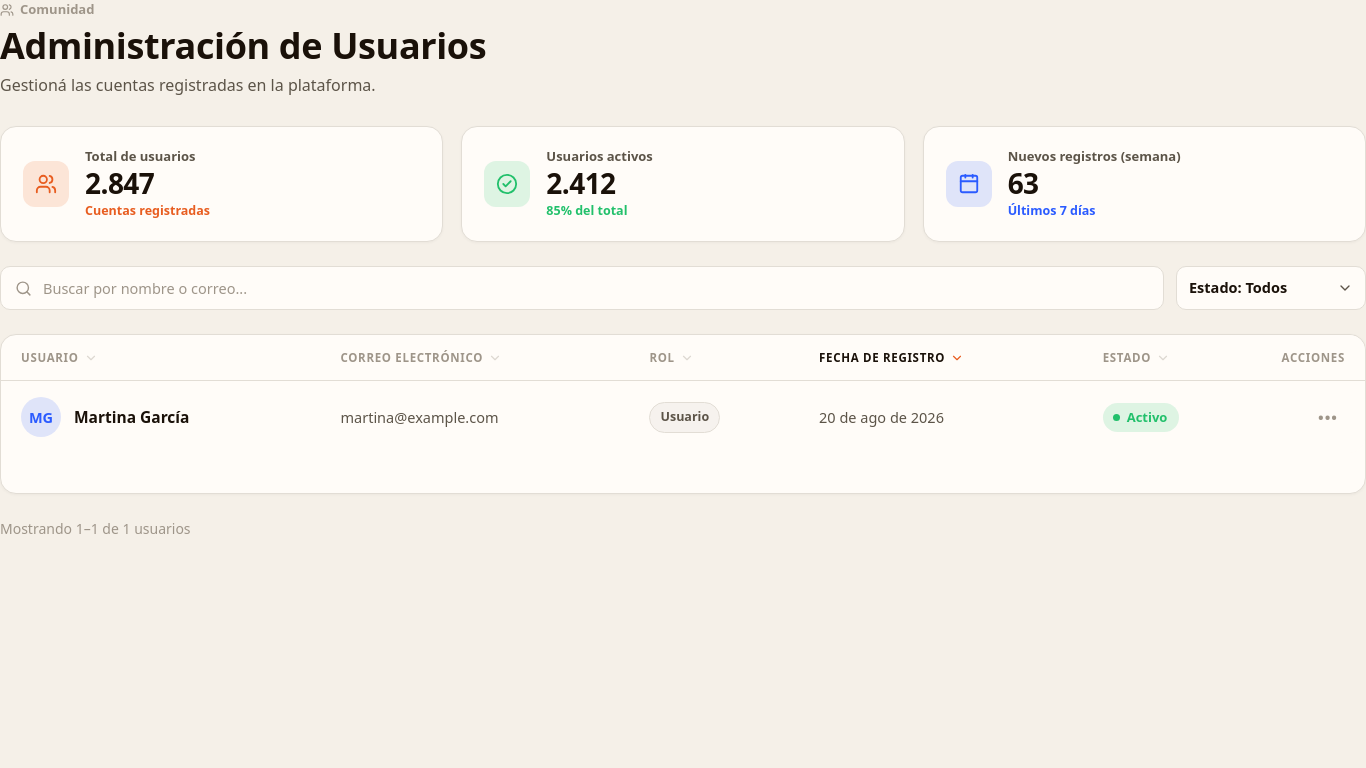
Test case: AdminUsersView › edits all mutable user fields from the read view actions
The width and height of the screenshot is (1366, 768).
Check: the text "Martina García" is shown, box 74,406 -> 189,429
Click the button with aria-label "Ver detalle de Martina García" at (161, 417), box 1,381 -> 320,453
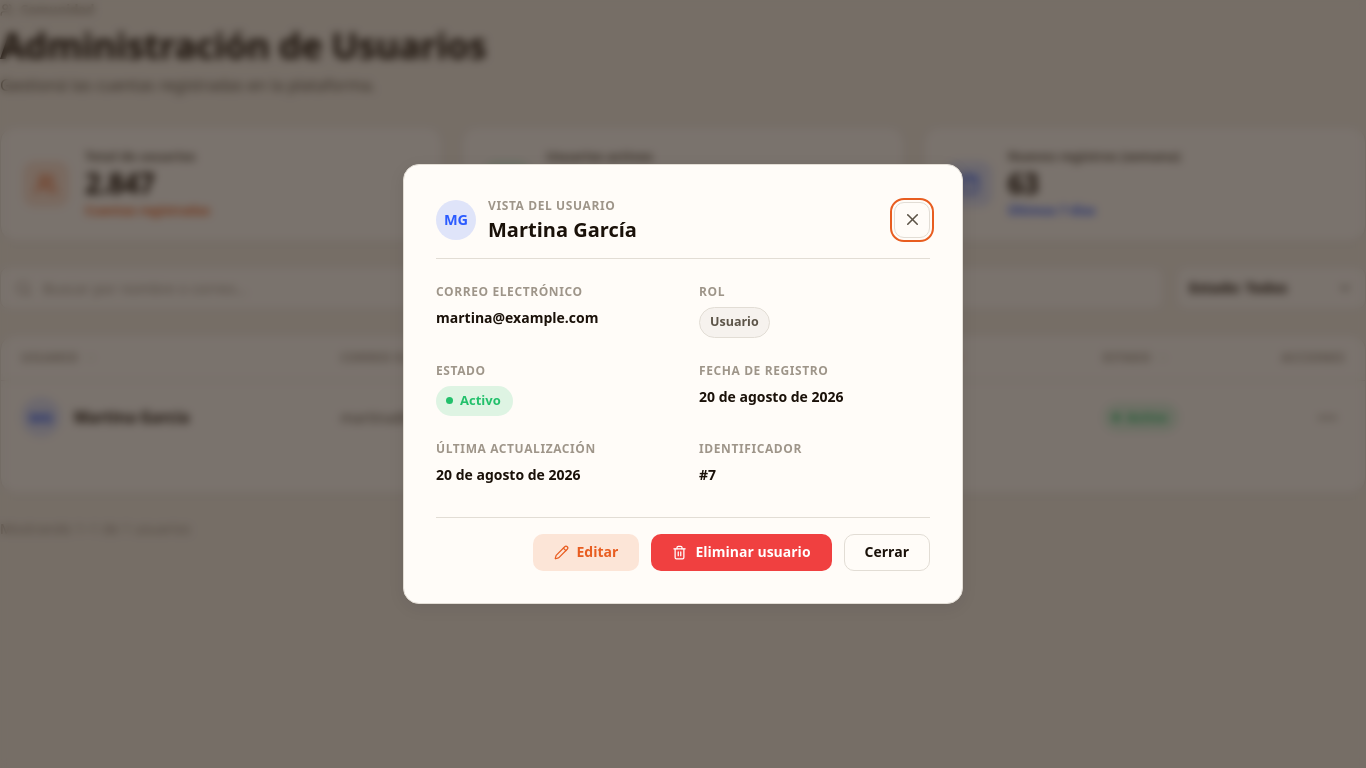
Click the button "Editar" at (586, 552), box 532,534 -> 639,571
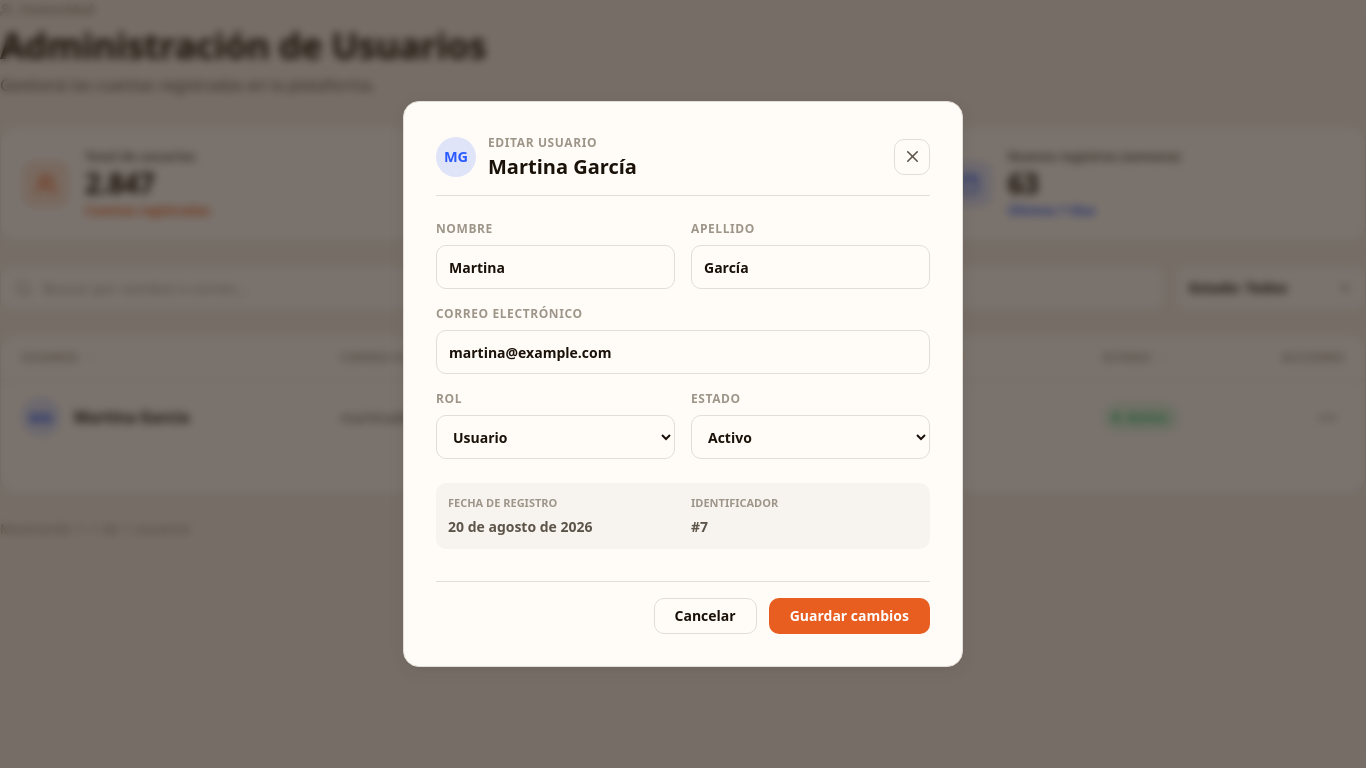
Replace the text in the field labelled "Nombre" with "Marina" at (556, 267), box 436,245 -> 675,289
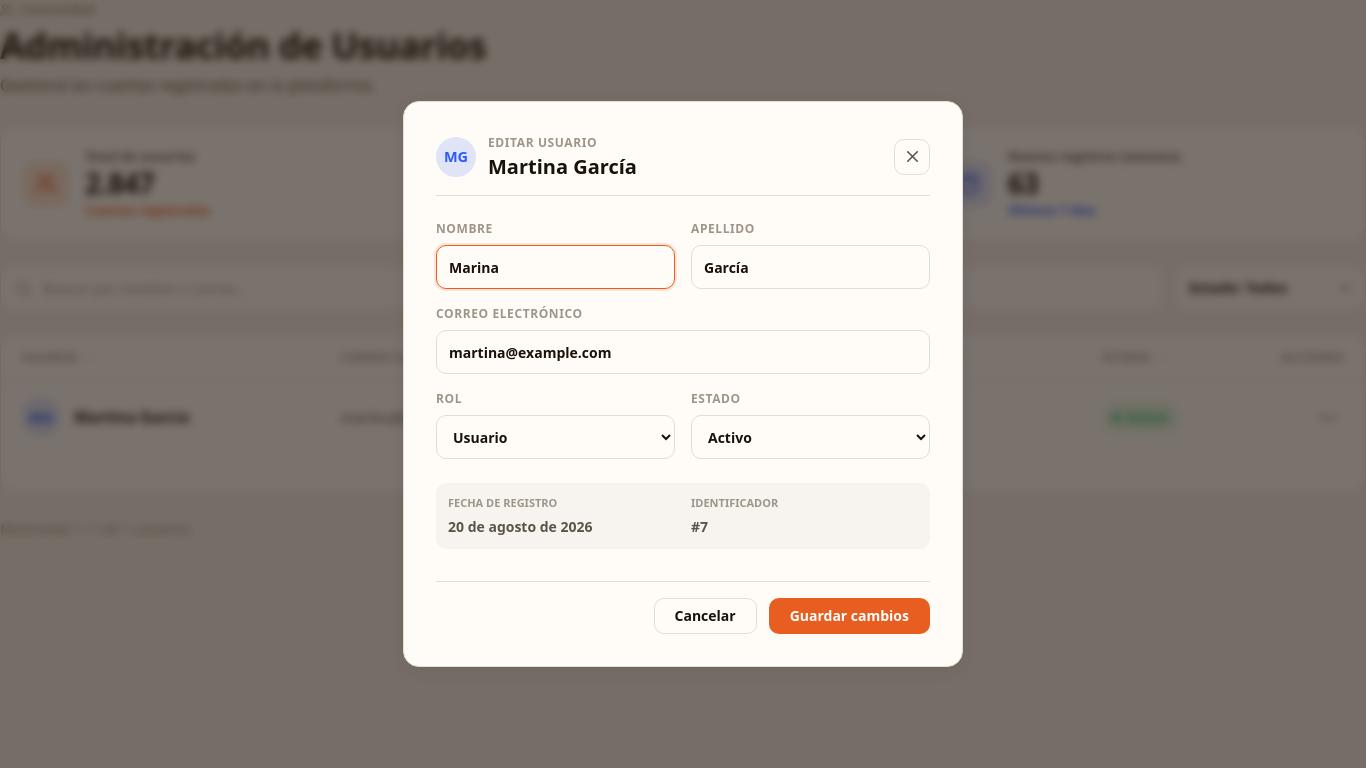
Select "Administrador" in the dropdown labelled "Rol" at (556, 437), box 436,415 -> 675,459
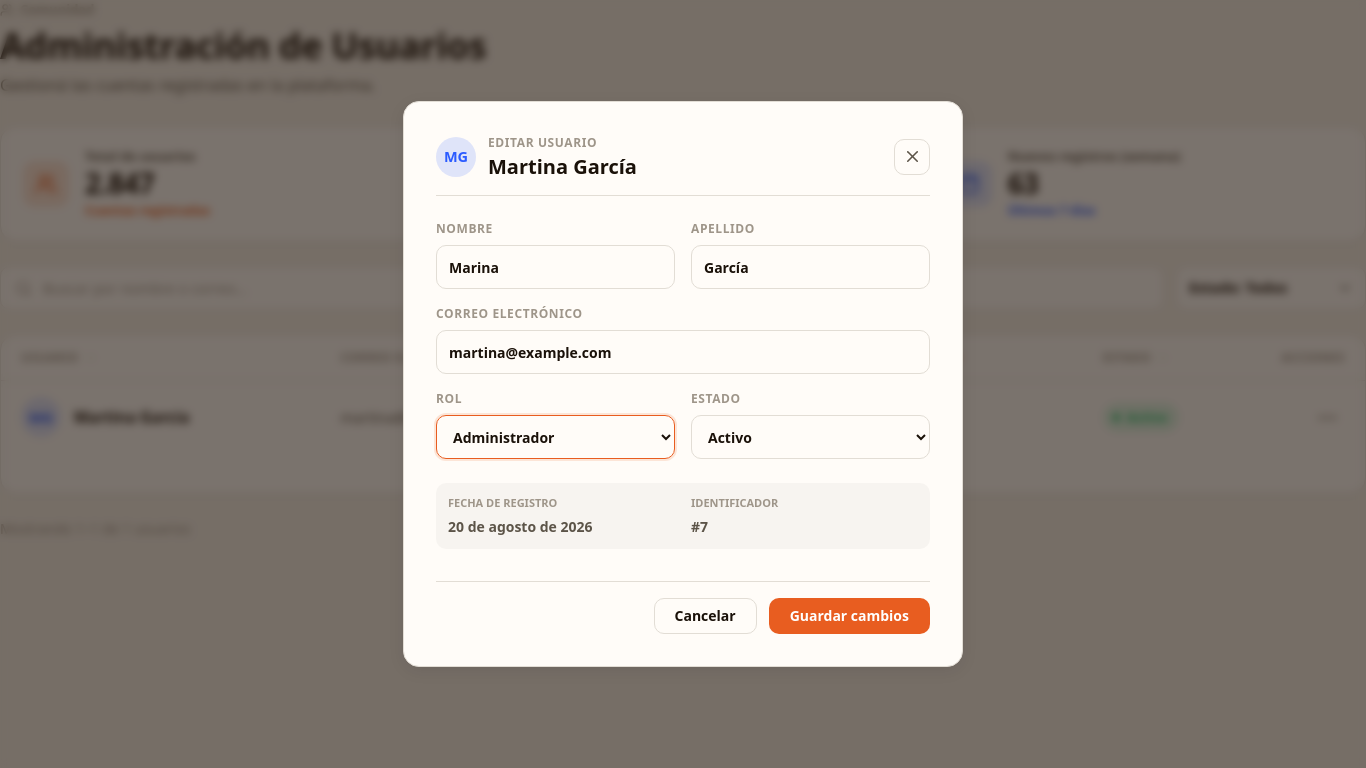
Select "Suspendido" in the dropdown labelled "Estado" at (810, 437), box 691,415 -> 930,459
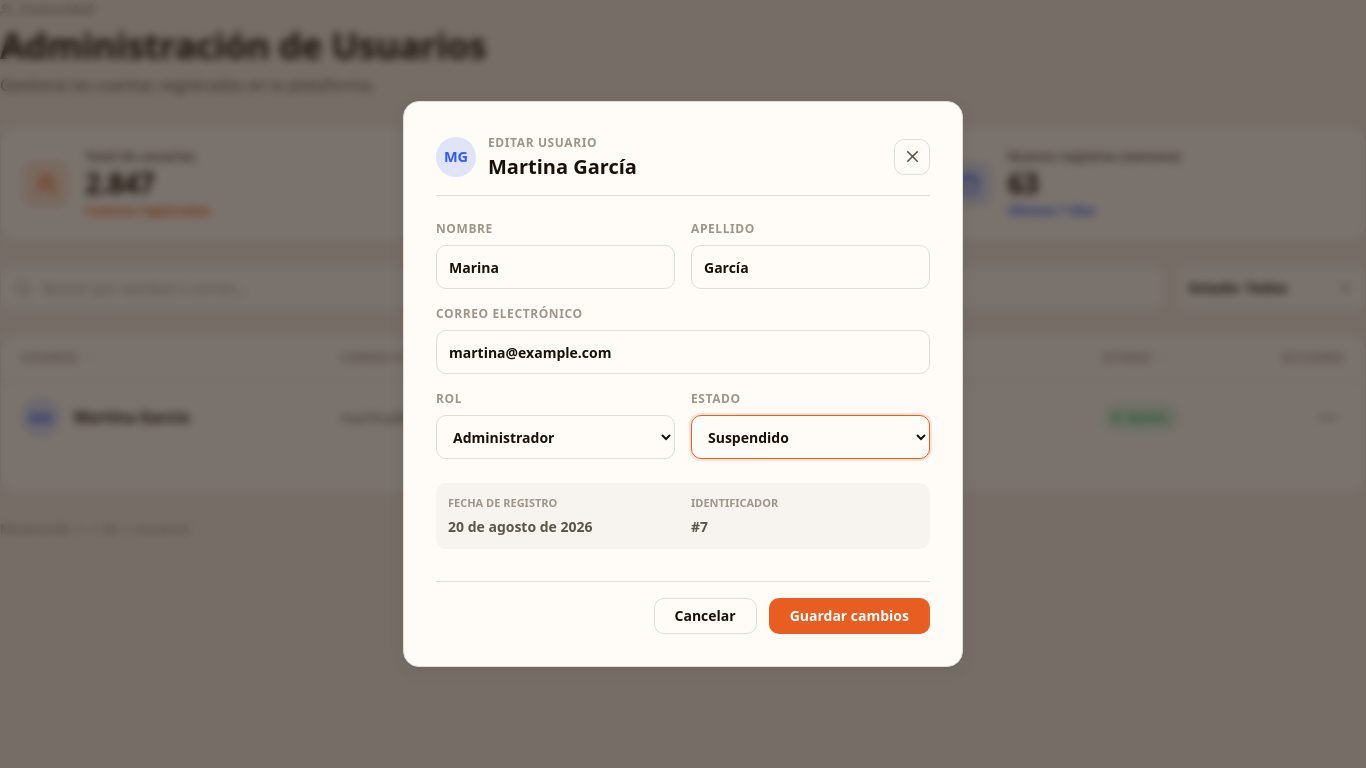
Click the button "Guardar cambios" at (849, 616), box 769,598 -> 930,634
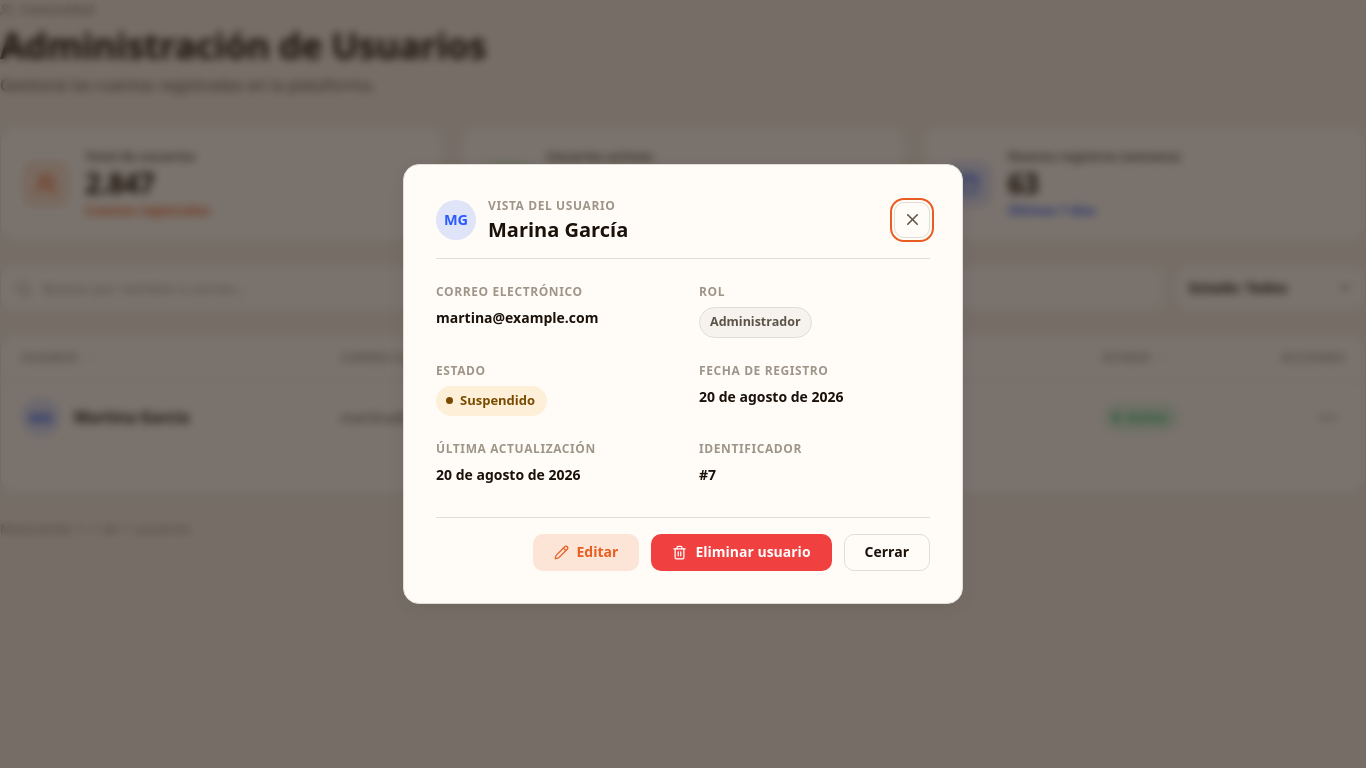
Check: the dialog "Marina García" is shown, box 403,164 -> 963,604
